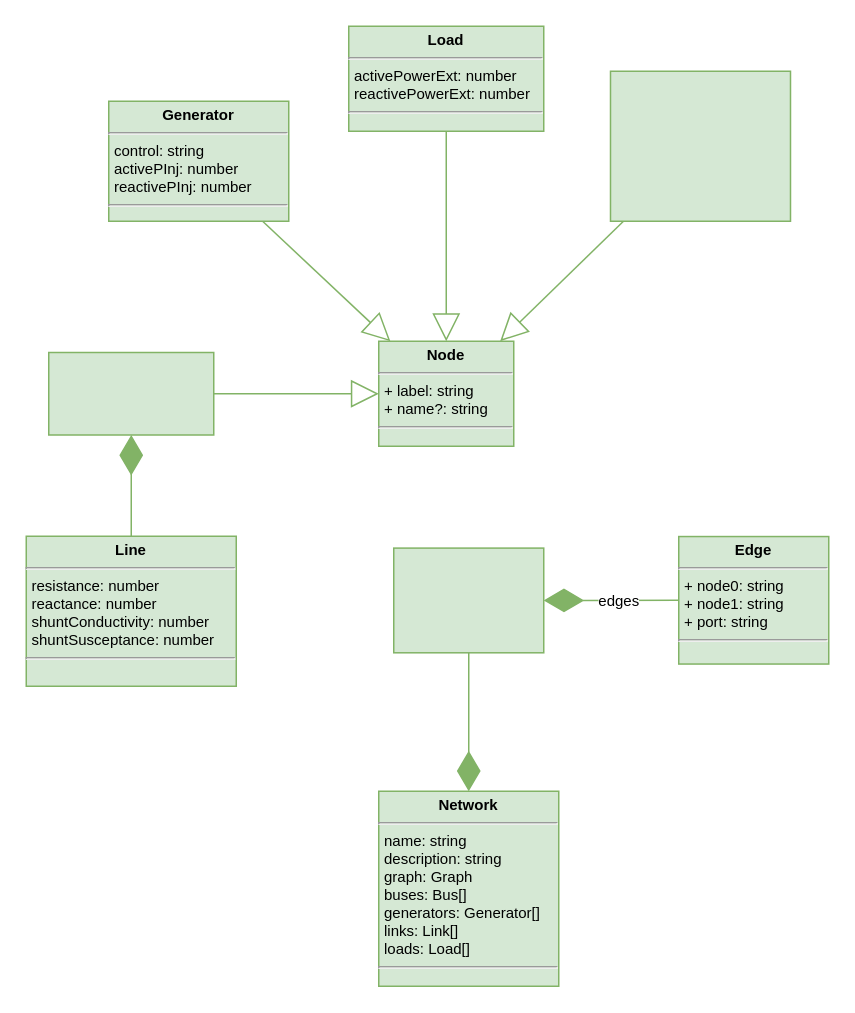
Some shapes in this 855 by 1013 pixel diagram are drawn without their labels. Each missing label, with the centre of its shape:
"Bus nomVoltage: number posX: number posY: number voltageMag: number" belongs at point (699, 145).
"Graph + nodes: string[] + edges: Edge[]" belongs at point (468, 600).
"Link lines: Line[]" belongs at point (130, 393).
